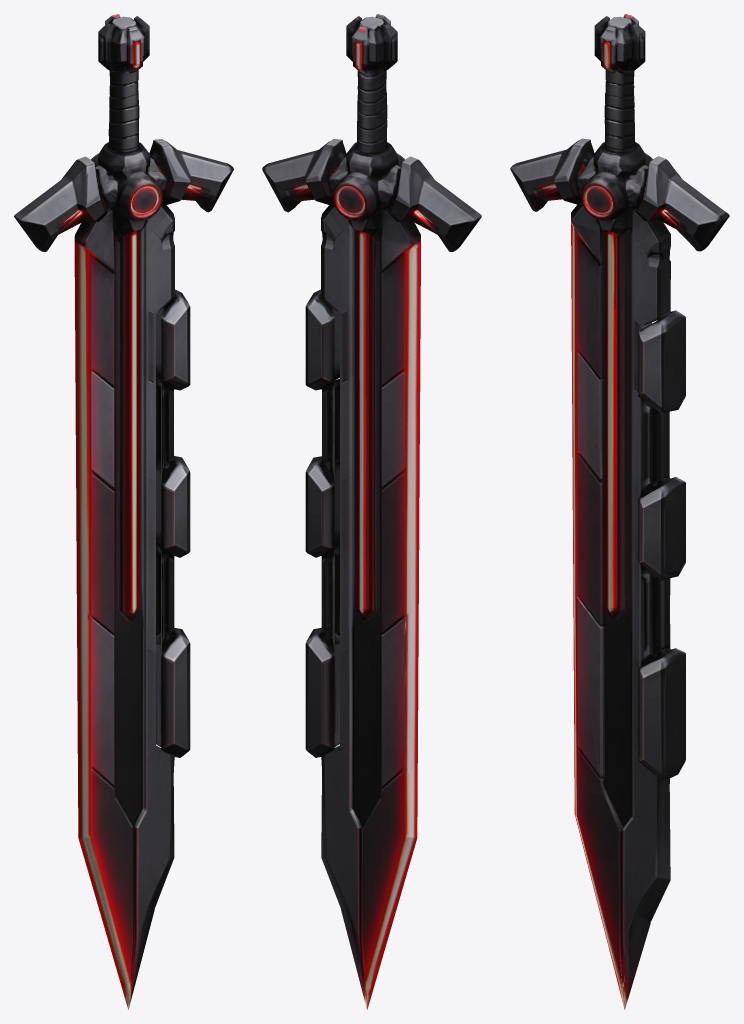
File: BossGreatsword.fbx
The picture shows the model from 3 angles, left to right: view 1: azimuth 30°, elevation 25°; view 2: azimuth 150°, elevation 25°; view 3: azimuth 330°, elevation 25°; orthographic projection.
Parts seen in each view (by area): view 1: tripo_584db612_e2dc_4659_b363_a9d5c4046bc1; view 2: tripo_584db612_e2dc_4659_b363_a9d5c4046bc1; view 3: tripo_584db612_e2dc_4659_b363_a9d5c4046bc1.
Part boxes in pixels (box(x1,y1,x2,y2)): tripo_584db612_e2dc_4659_b363_a9d5c4046bc1: box(14, 14, 233, 1009); tripo_584db612_e2dc_4659_b363_a9d5c4046bc1: box(262, 14, 481, 1009); tripo_584db612_e2dc_4659_b363_a9d5c4046bc1: box(510, 14, 729, 1009).
Bounding box in the file's own units: 0.2271 × 0.9995 × 0.0796.
